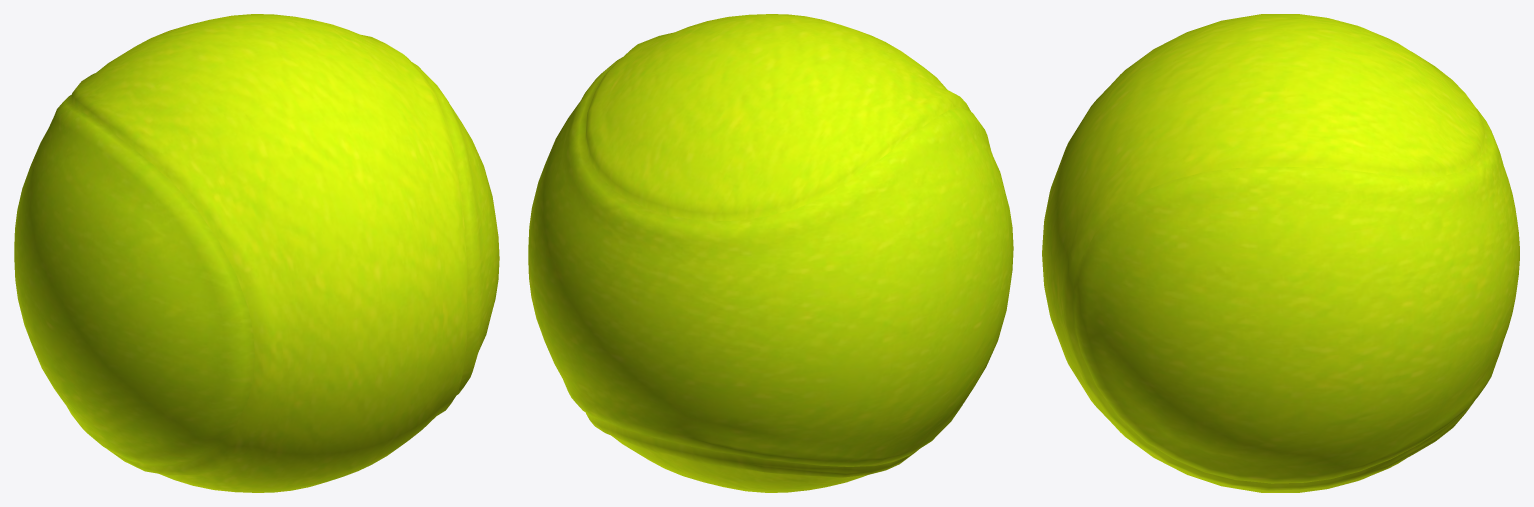
The model's file is baseball_01.glb.
The picture shows the model from 3 angles, left to right: view 1: azimuth 30°, elevation 25°; view 2: azimuth 150°, elevation 25°; view 3: azimuth 270°, elevation 25°; orthographic projection.
Parts seen in each view (by area): view 1: baseball_01; view 2: baseball_01; view 3: baseball_01.
Boxes of the visible parts, x1=… form: baseball_01: x1=14, y1=14, x2=499, y2=492; baseball_01: x1=528, y1=14, x2=1013, y2=492; baseball_01: x1=1042, y1=14, x2=1519, y2=492.
Bounding box in the file's own units: 0.0704 × 0.0702 × 0.0702.
Materials: 1 (1 with a texture image).
